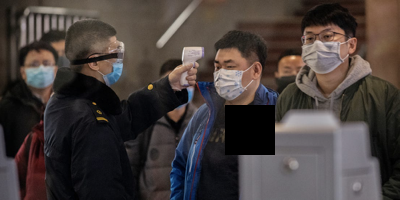with_mask: (300, 28, 348, 75), (212, 58, 249, 101), (96, 40, 124, 88), (23, 56, 56, 90), (277, 63, 305, 91)
